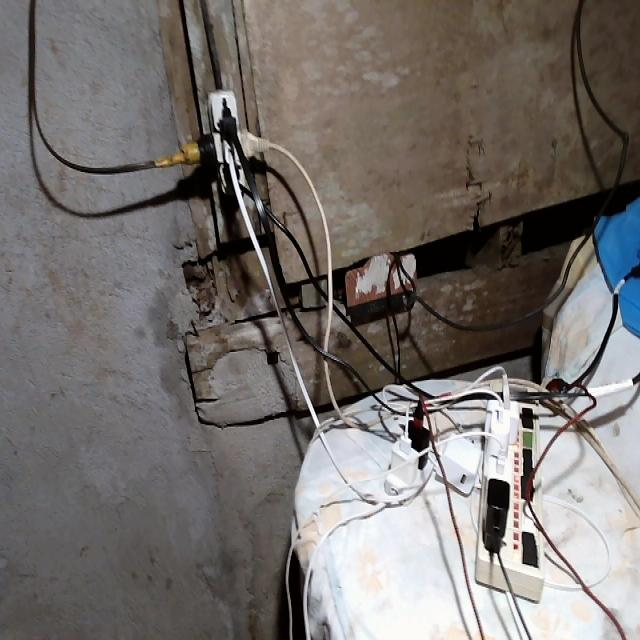-: (186, 86, 267, 202)
